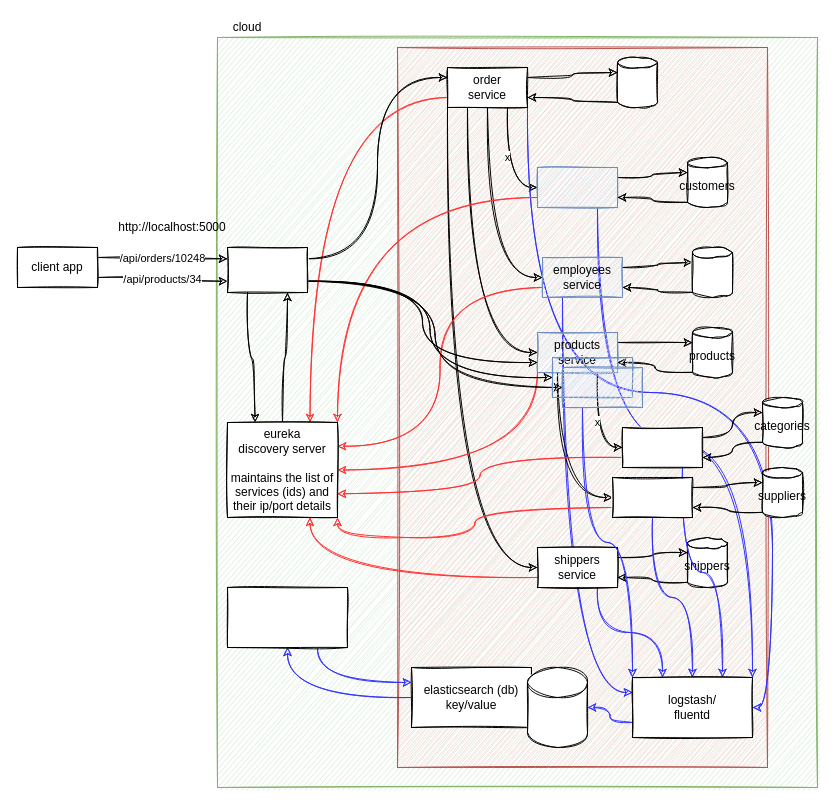
This 835x805 diagram has some shape labels left out. The shapes that lost their labels are listed below. From the top down, each one's box as (x1, y1, x2, y2) in pixels, then its label:
(616, 56, 658, 108): orders order-details
(536, 166, 618, 208): customer service
(226, 246, 308, 292): api-gateway fixed ip/port
(692, 246, 732, 298): employees
(622, 426, 702, 468): category service
(612, 476, 692, 518): suppliers service
(226, 586, 348, 648): Kibana
